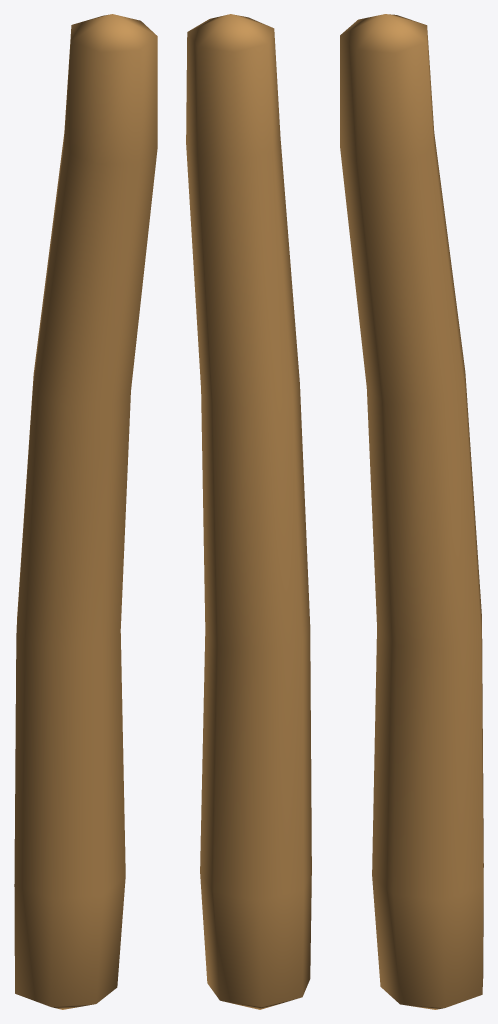
The model's file is tarsus_T3_left_leg.obj.
3 views of the same model, side by side, from view 1: azimuth 90°, elevation 25°; view 2: azimuth 210°, elevation 25°; view 3: azimuth 270°, elevation 25° (orthographic).
Bounding box in the file's own units: 0.00433 × 0.0418 × 0.00545.
